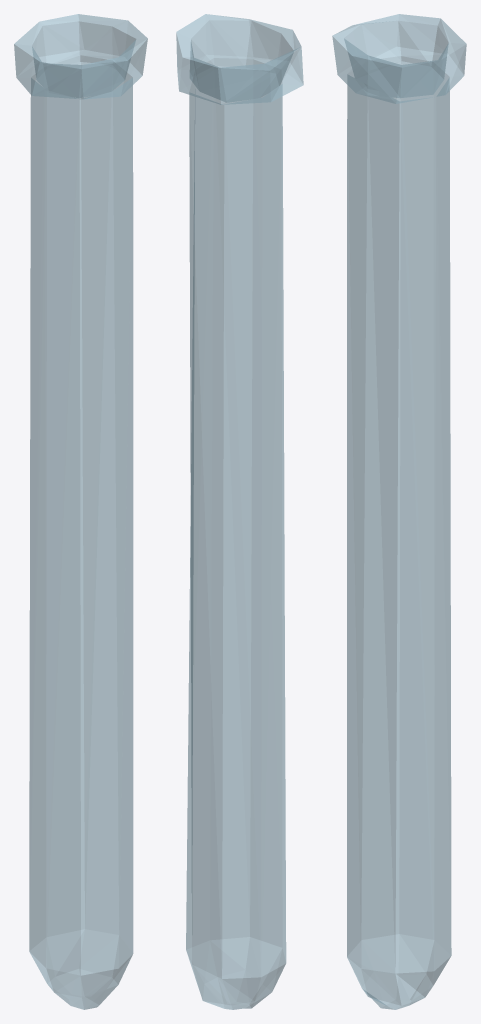
File: AWS_Test_Tube_005.fbx
The picture shows the model from 3 angles, left to right: view 1: azimuth 90°, elevation 25°; view 2: azimuth 210°, elevation 25°; view 3: azimuth 270°, elevation 25°; orthographic projection.
Visible parts, largest first — view 1: AWS_Test_Tube_005; view 2: AWS_Test_Tube_005; view 3: AWS_Test_Tube_005.
Part boxes in pixels (left/top/right/bottom): AWS_Test_Tube_005: left=14, top=14, right=147, bottom=1009; AWS_Test_Tube_005: left=176, top=14, right=303, bottom=1009; AWS_Test_Tube_005: left=332, top=14, right=466, bottom=1009.
Bounding box in the file's own units: 3.23 × 26.65 × 3.34.
